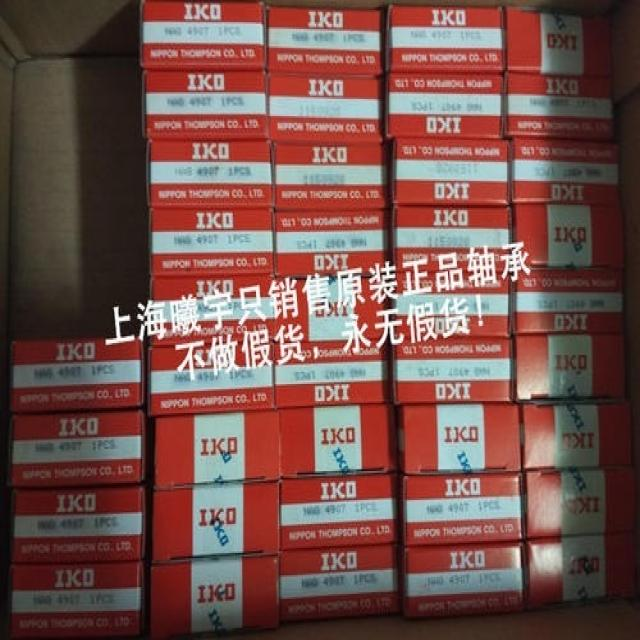box: (151, 479, 279, 562), (10, 561, 145, 638), (11, 411, 146, 488), (12, 486, 146, 563), (155, 409, 280, 490), (12, 338, 145, 413), (149, 556, 278, 633), (403, 539, 526, 618), (279, 544, 400, 622), (280, 472, 398, 551), (398, 472, 525, 545), (147, 343, 276, 413), (143, 72, 271, 142), (397, 405, 523, 475), (142, 3, 267, 72), (393, 271, 514, 341), (279, 404, 394, 477), (394, 337, 517, 405), (150, 208, 273, 276), (525, 531, 635, 607), (149, 276, 273, 343), (392, 206, 513, 274), (266, 72, 383, 142), (149, 142, 273, 208), (520, 399, 630, 472), (523, 467, 634, 539), (384, 73, 505, 139), (273, 339, 390, 407), (392, 139, 510, 206), (514, 333, 623, 403), (386, 9, 504, 73), (271, 144, 385, 210), (504, 73, 614, 141), (267, 7, 380, 73), (274, 208, 385, 275), (503, 10, 613, 77), (273, 278, 386, 343), (514, 204, 623, 270), (507, 139, 618, 203), (514, 271, 622, 335)
